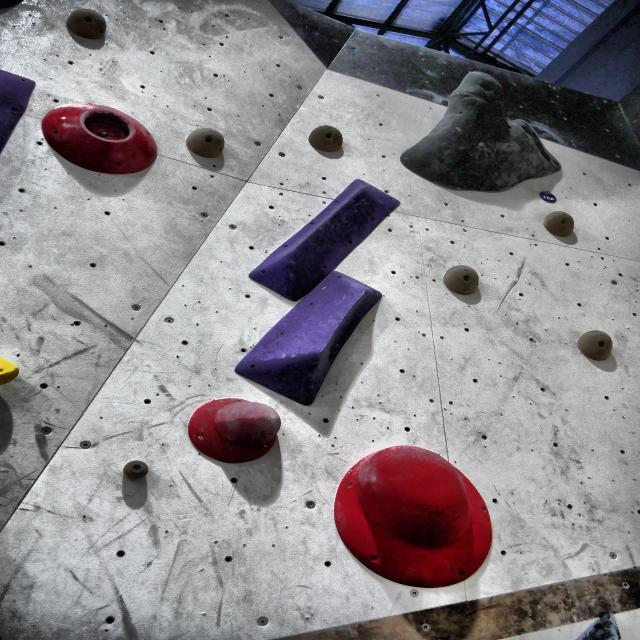Hold: (225, 169, 408, 317), (211, 267, 395, 413), (328, 443, 490, 596), (395, 71, 563, 193), (38, 100, 156, 175), (185, 395, 282, 465)
